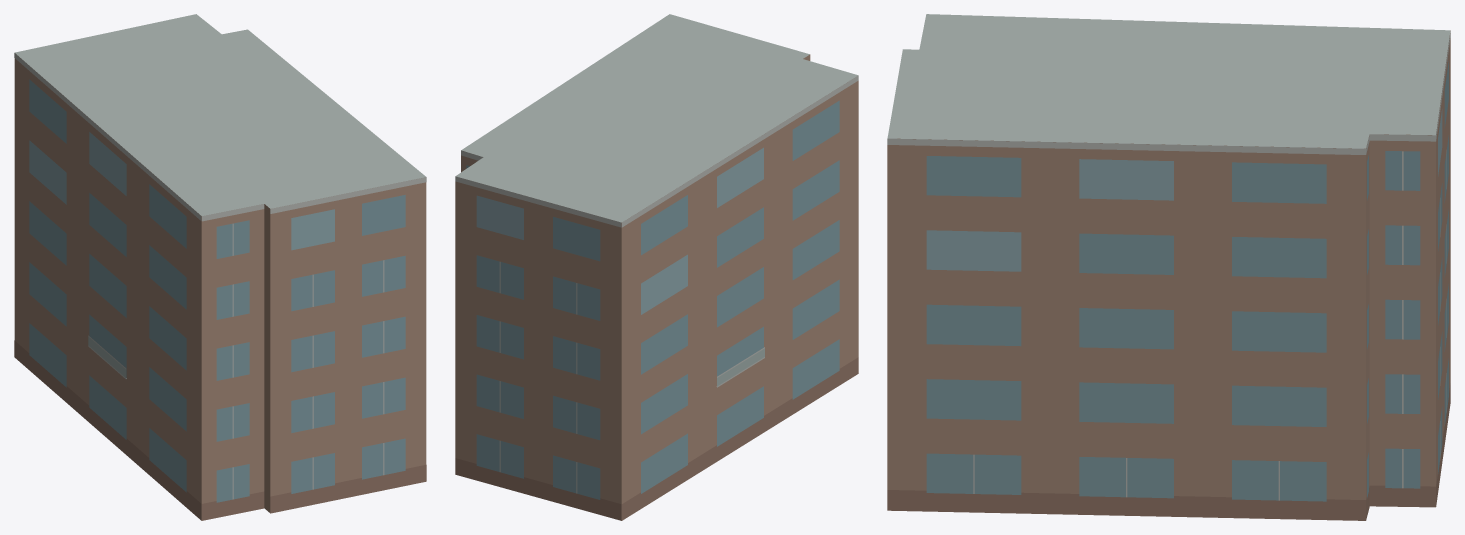
File: survey-upis-32711726.glb
3 views of the same model, side by side, from view 1: azimuth 30°, elevation 25°; view 2: azimuth 150°, elevation 25°; view 3: azimuth 270°, elevation 25° (orthographic). The views are drawn at different scales.
Visible parts, largest first — view 1: survey-upis-32711726.tmp; view 2: survey-upis-32711726.tmp; view 3: survey-upis-32711726.tmp.
Part boxes in pixels (left/top/right/bottom): survey-upis-32711726.tmp: left=14, top=14, right=426, bottom=520; survey-upis-32711726.tmp: left=455, top=14, right=858, bottom=520; survey-upis-32711726.tmp: left=887, top=14, right=1450, bottom=520.
Size of the model in its own units: 11.04 by 14.2 by 19.48.
